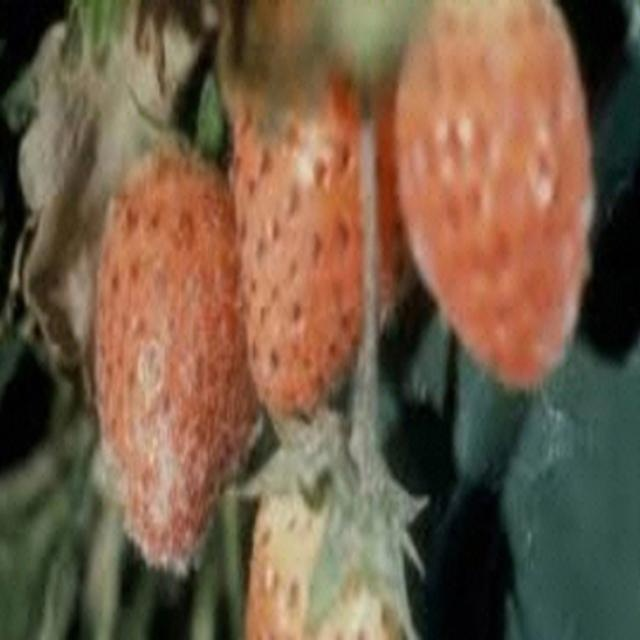Powdery Mildew Fruit: (392, 0, 598, 384), (223, 40, 423, 423), (92, 135, 265, 573)
